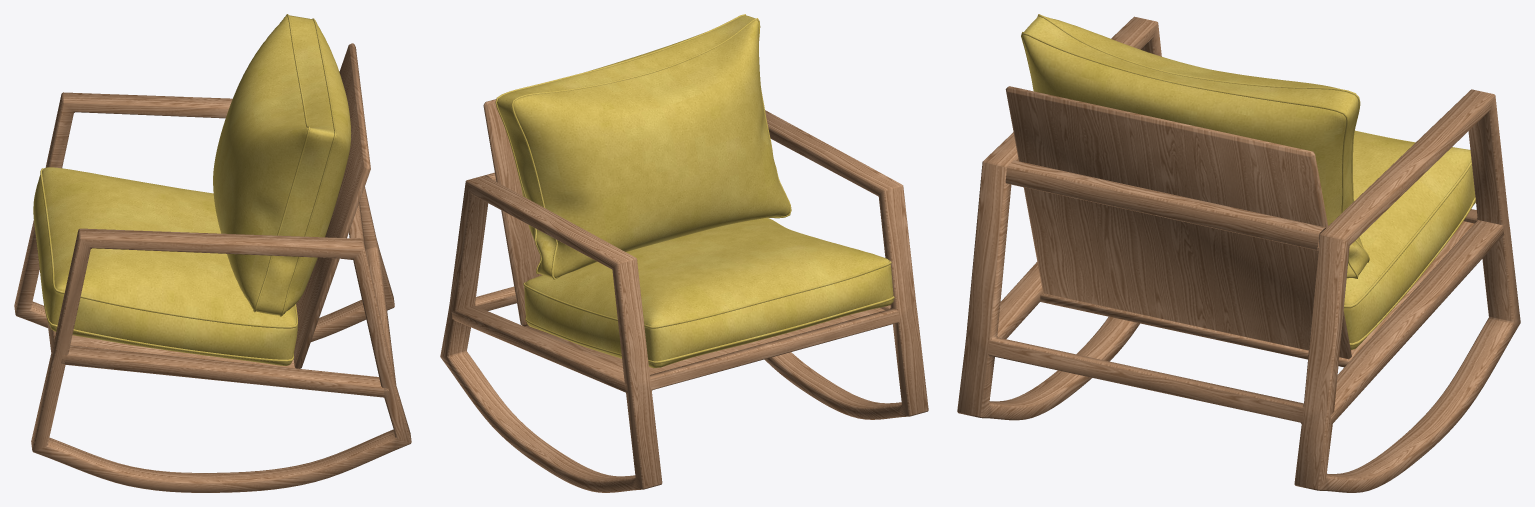
File: Palermo-rocking-chair.glb
The picture shows the model from 3 angles, left to right: view 1: azimuth 30°, elevation 25°; view 2: azimuth 150°, elevation 25°; view 3: azimuth 270°, elevation 25°; orthographic projection. The views are drawn at different scales.
Visible parts, largest first — view 1: sandalye_kemik_n3d, altyastik_n3d, Large-pillow, sandalye_arka_n3d, sandalye_oturma_n3d; view 2: Large-pillow, sandalye_kemik_n3d, altyastik_n3d, sandalye_arka_n3d, sandalye_oturma_n3d; view 3: sandalye_kemik_n3d, sandalye_arka_n3d, Large-pillow, altyastik_n3d, sandalye_oturma_n3d.
Part boxes in pixels (x1,y1,x2,y2): sandalye_kemik_n3d: [14, 92, 411, 492]; altyastik_n3d: [33, 167, 297, 365]; Large-pillow: [213, 14, 351, 316]; sandalye_arka_n3d: [293, 43, 370, 368]; sandalye_oturma_n3d: [70, 335, 294, 368]; Large-pillow: [495, 14, 791, 279]; sandalye_kemik_n3d: [440, 110, 928, 492]; altyastik_n3d: [523, 217, 894, 368]; sandalye_arka_n3d: [483, 99, 541, 326]; sandalye_oturma_n3d: [525, 308, 884, 374]; sandalye_kemik_n3d: [957, 16, 1520, 492]; sandalye_arka_n3d: [1005, 86, 1351, 359]; Large-pillow: [1021, 14, 1369, 278]; altyastik_n3d: [1343, 130, 1475, 349]; sandalye_oturma_n3d: [1040, 221, 1474, 367].
Size of the model in its own units: 1.23 by 0.9689 by 1.2.
2 materials, 2 textured.
